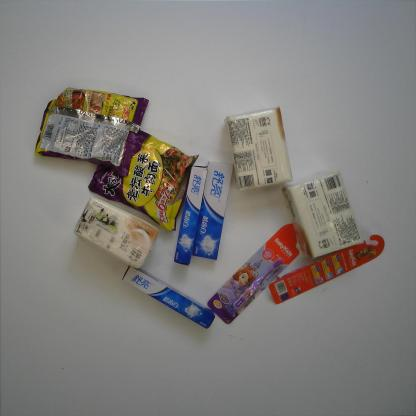Instant Noodles: (88, 124, 200, 232), (34, 87, 151, 177)
Personal Hygiene: (206, 223, 306, 324), (268, 235, 385, 305), (121, 264, 216, 330), (192, 160, 234, 262), (173, 162, 208, 267)
Tissue: (281, 169, 364, 260), (74, 197, 160, 270), (224, 107, 293, 192)
